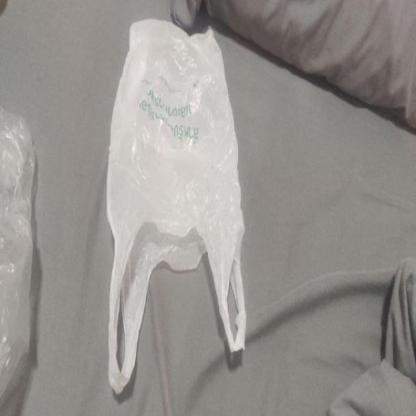Plastic Bag: (104, 16, 250, 398)
